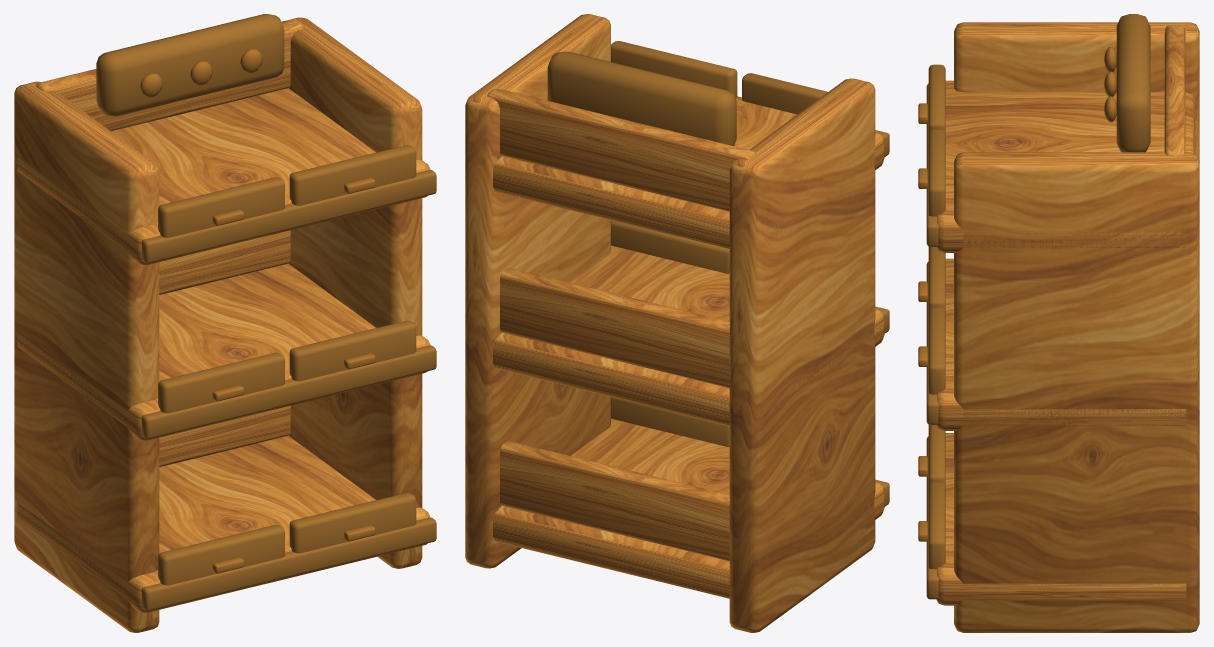
File: materials.glb
The picture shows the model from 3 angles, left to right: view 1: azimuth 30°, elevation 25°; view 2: azimuth 150°, elevation 25°; view 3: azimuth 270°, elevation 25°; orthographic projection.
Parts seen in each view (by area): view 1: materials; view 2: materials; view 3: materials.
Boxes of the visible parts, bbox=[...] form: materials: bbox=[14, 14, 436, 632]; materials: bbox=[465, 14, 889, 632]; materials: bbox=[918, 14, 1199, 632].
Bounding box in the file's own units: 0.9118 × 1.49 × 0.7445.
3 materials, 1 textured.
